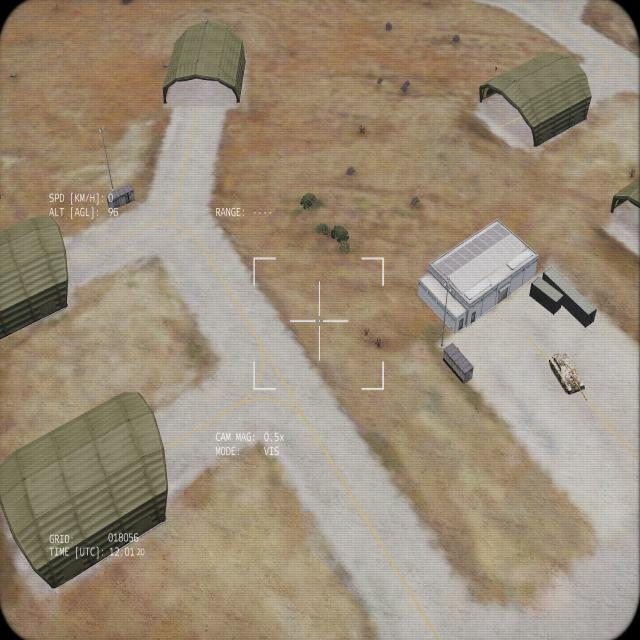tank: (548, 351, 587, 403)
